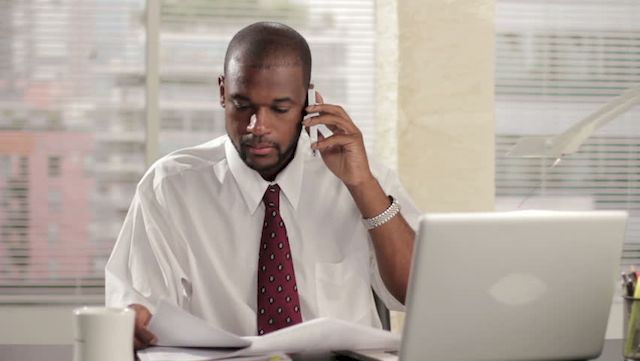phone: (297, 82, 333, 157)
talk: (226, 82, 364, 176)
